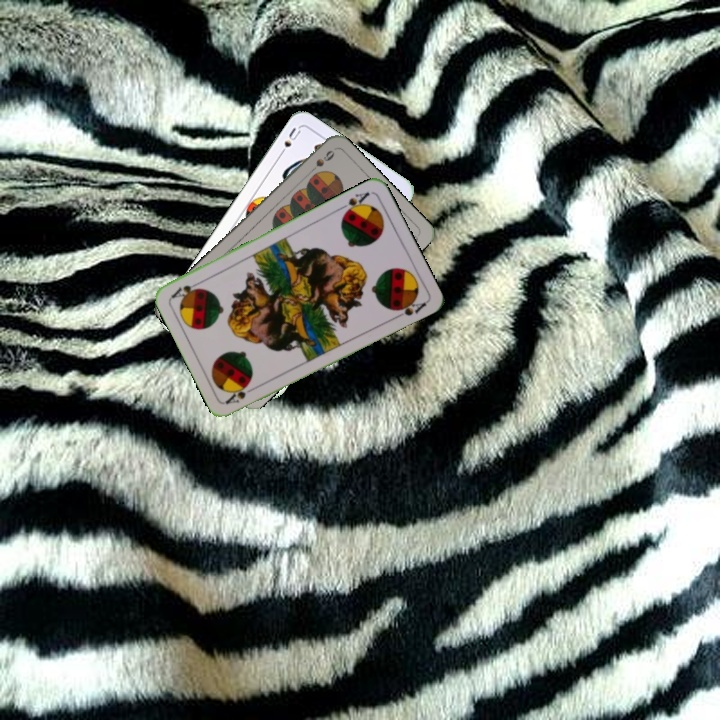S9: (304, 146, 337, 178)
SA: (335, 187, 372, 218), (222, 380, 260, 407)
SU: (274, 123, 303, 160)
